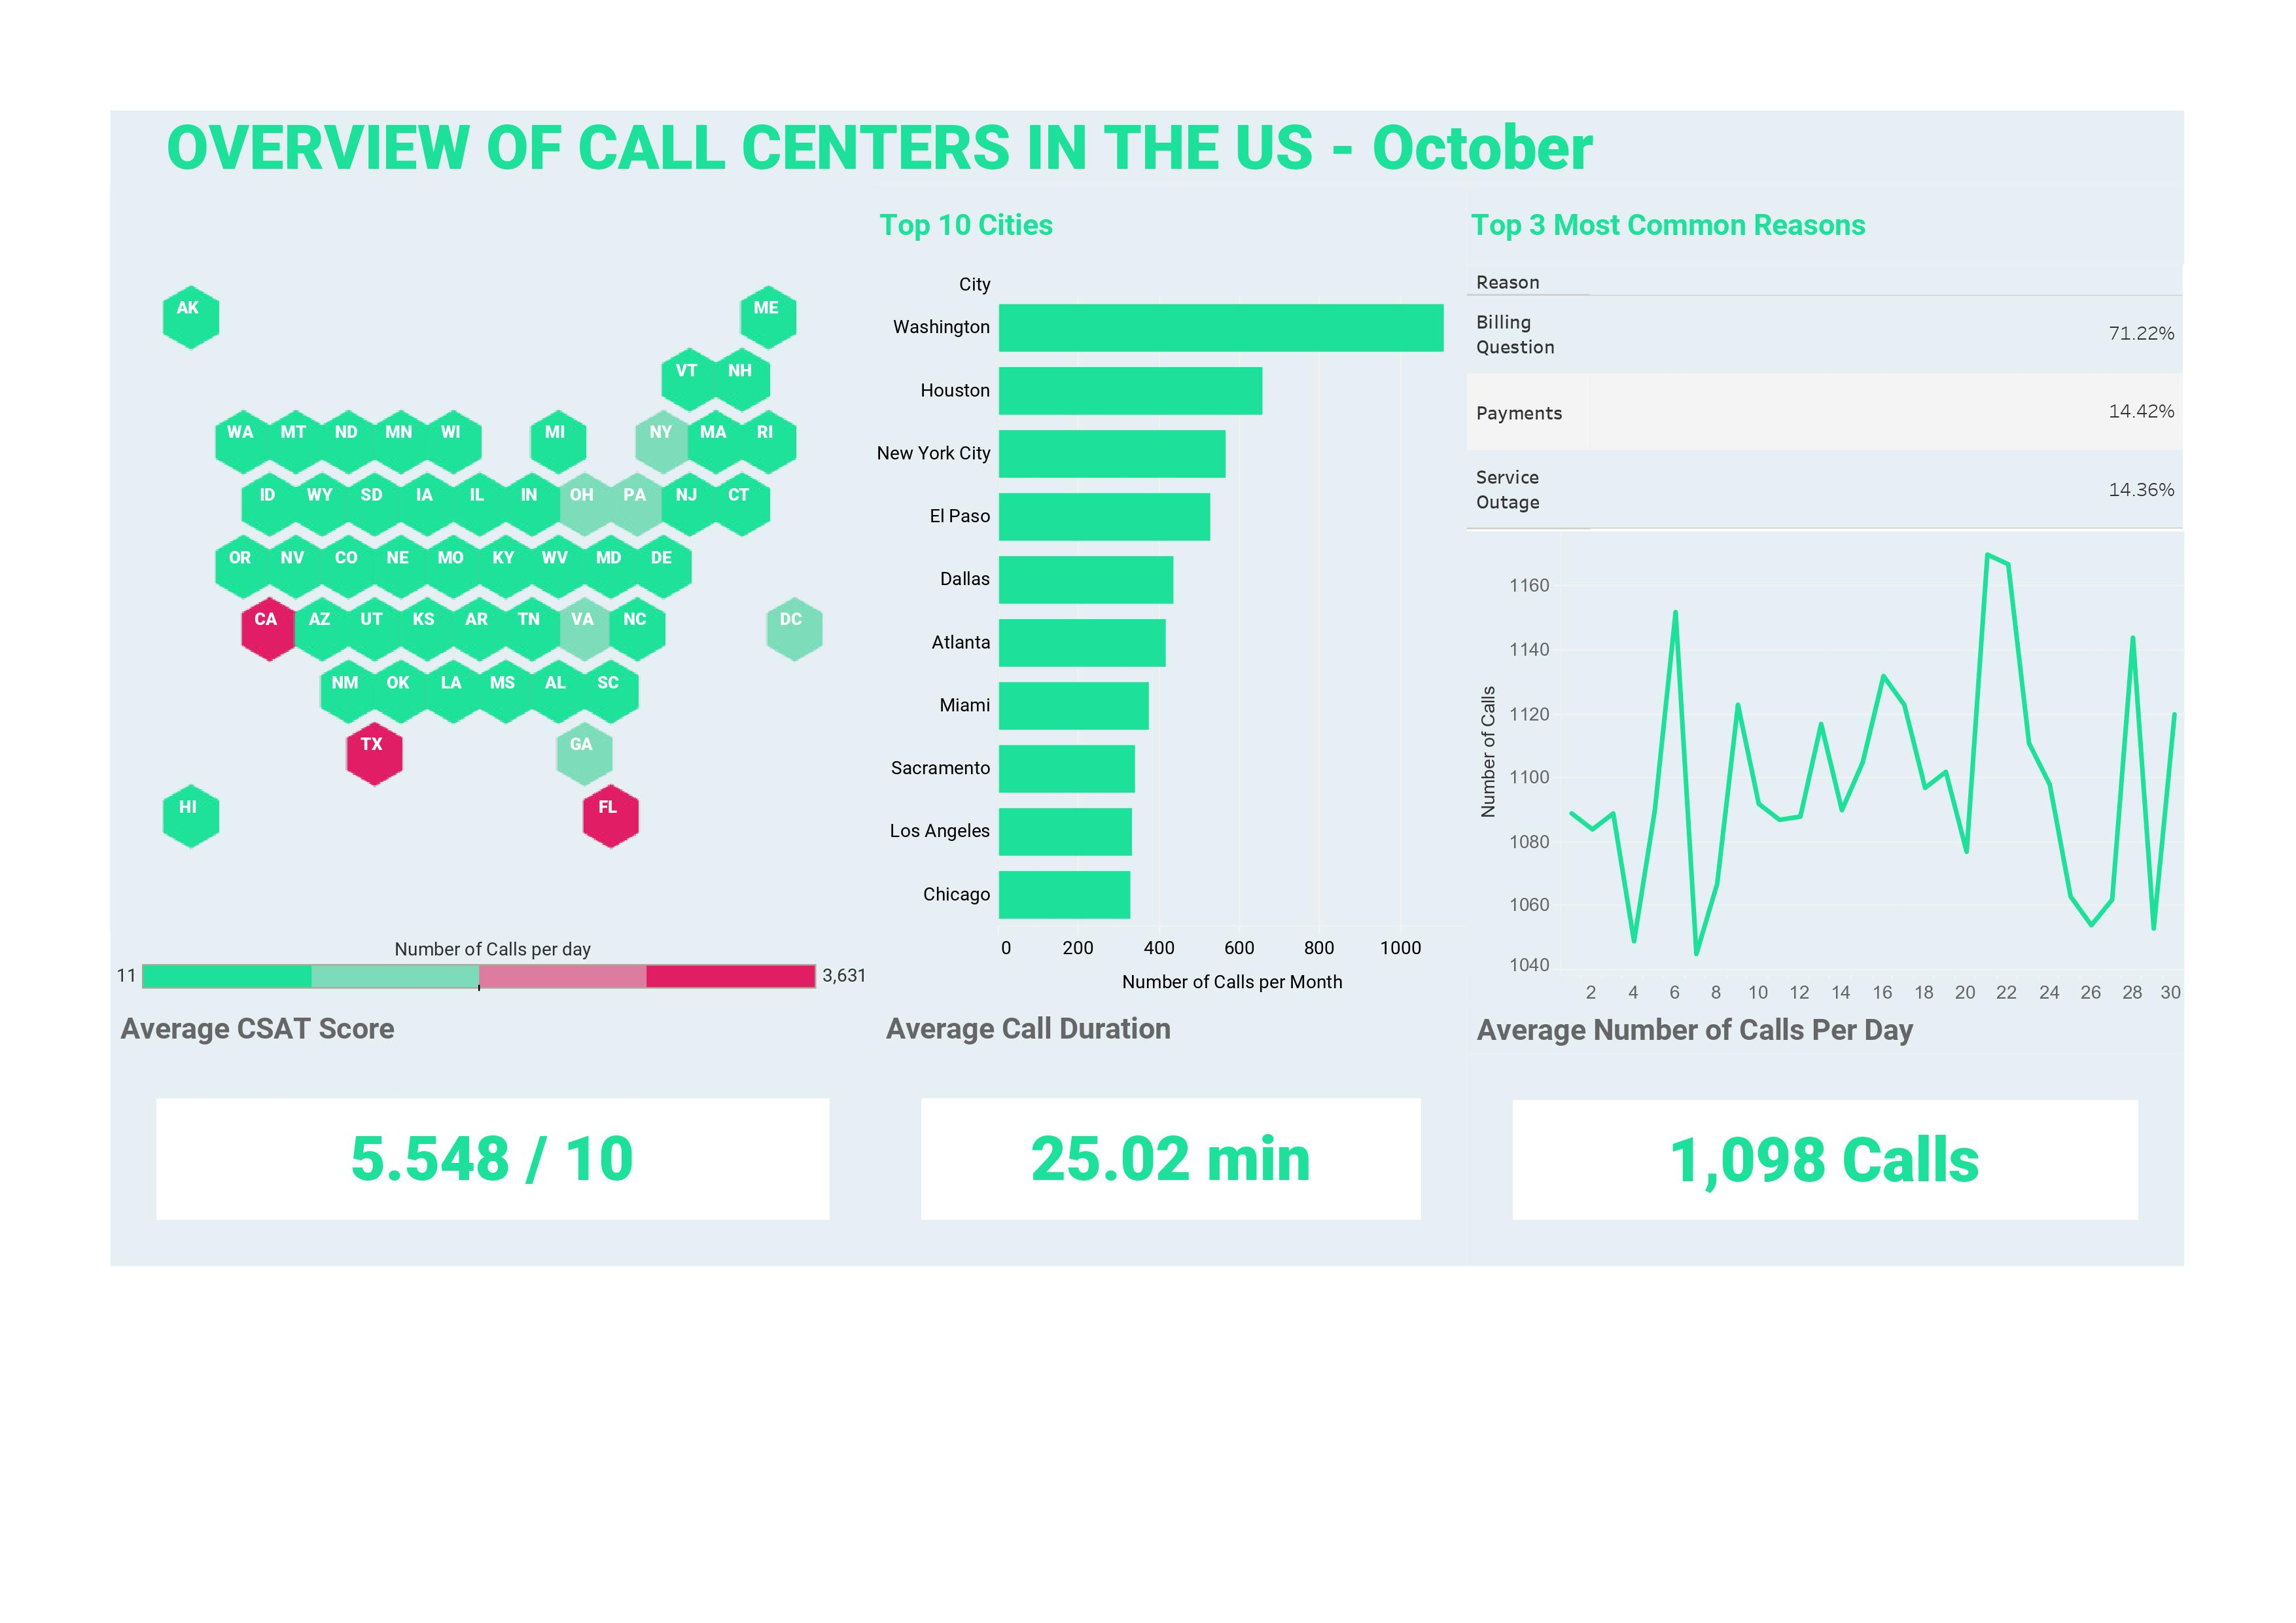

The page's visual inventory and layout, read from the dashboard file:
{"tool":"tableau","page":{"name":"Dashboard 1","canvas":[1366,768],"ordinal":0},"visuals":[{"type":"worksheet","box":[0,0,1366,768]},{"type":"worksheet","param":"vert","box":[8,8,1350,752]},{"type":"worksheet","box":[8,8,1350,48]},{"type":"worksheet","param":"vert","box":[8,56,1350,704]},{"type":"worksheet","param":"vert","box":[8,56,1350,704]},{"type":"worksheet","param":"horz","box":[8,56,1350,704]},{"type":"worksheet","box":[8,56,1350,704]},{"type":"worksheet","title":"Number of Calls By State","mark":"Automatic","rows":["Row"],"cols":["Column"],"box":[8,56,498,486.8]},{"type":"worksheet","box":[506,56,384.6,52.5]},{"type":"worksheet","box":[890.6,56,467.4,52.3]},{"type":"worksheet","title":"Top 3 Most Common Reasons","mark":"Automatic","rows":["reason"],"box":[890.6,108.3,467.4,173.2]},{"type":"worksheet","title":"Top 10 Cities","mark":"Bar","rows":["city"],"cols":["Call Center.csv_B3E12C31AD2F46ABAC89195501190D91"],"box":[506,108.5,384.6,480.9]},{"type":"worksheet","title":"Number of Calls per Day","mark":"Line","rows":["Call Center.csv_B3E12C31AD2F46ABAC89195501190D91"],"cols":["call_timestamp"],"box":[890.6,281.6,467.4,308.9]},{"type":"worksheet","title":"Number of Calls By State","mark":"Automatic","rows":["Row"],"cols":["Column"],"param":"[federated.0lp04951io52wa161w0nd0g911mx].[__tableau_internal_object_id__].[cnt:C","box":[8,542.8,498,46.6]},{"type":"worksheet","box":[8,589.4,497.6,32]},{"type":"worksheet","box":[505.6,589.4,385,31.7]},{"type":"worksheet","param":"vert","box":[890.6,590.5,467.4,169.5]},{"type":"worksheet","box":[890.6,590.5,467.4,32]},{"type":"worksheet","title":"Average Call Duration","mark":"Text","box":[505.6,621.2,385,138.8]},{"type":"worksheet","title":"Average Score","mark":"Text","box":[8,621.4,497.6,138.6]},{"type":"worksheet","title":"Average Call Per Day","mark":"Text","box":[890.6,622.5,467.4,137.5]}]}

Visuals, with their boxes on the page's 1366x768 design canvas (x1, y1, x2, y2). These are canvas units, not pixel positions in the 2296x1623 screenshot, which may show the page scaled, cropped or inside an application window:
worksheet: [0,0,1366,768]
worksheet: [8,8,1358,760]
worksheet: [8,8,1358,56]
worksheet: [8,56,1358,760]
worksheet: [8,56,1358,760]
worksheet: [8,56,1358,760]
worksheet: [8,56,1358,760]
"Number of Calls By State" worksheet: [8,56,506,543]
worksheet: [506,56,891,108]
worksheet: [891,56,1358,108]
"Top 3 Most Common Reasons" worksheet: [891,108,1358,282]
"Top 10 Cities" worksheet (Bar marks): [506,108,891,589]
"Number of Calls per Day" worksheet (Line marks): [891,282,1358,590]
"Number of Calls By State" worksheet: [8,543,506,589]
worksheet: [8,589,506,621]
worksheet: [506,589,891,621]
worksheet: [891,590,1358,760]
worksheet: [891,590,1358,622]
"Average Call Duration" worksheet (Text marks): [506,621,891,760]
"Average Score" worksheet (Text marks): [8,621,506,760]
"Average Call Per Day" worksheet (Text marks): [891,622,1358,760]
